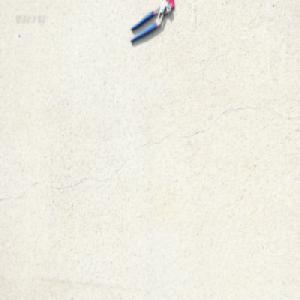Label: (165, 0, 178, 12)
Pliers: (130, 0, 173, 44)
